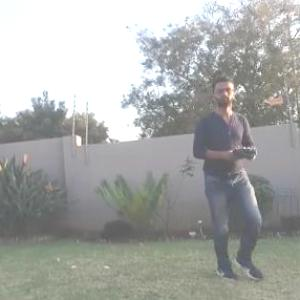follow: (192, 68, 281, 285)
